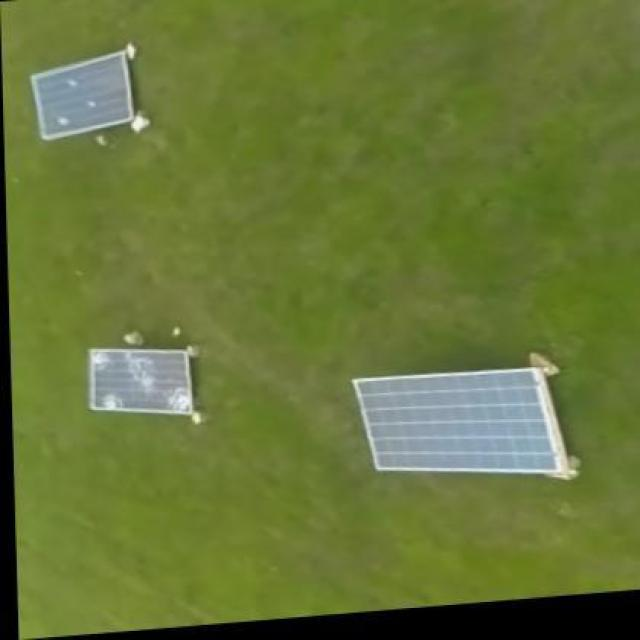cracked: (90, 348, 193, 416)
soiled: (29, 47, 148, 143)
